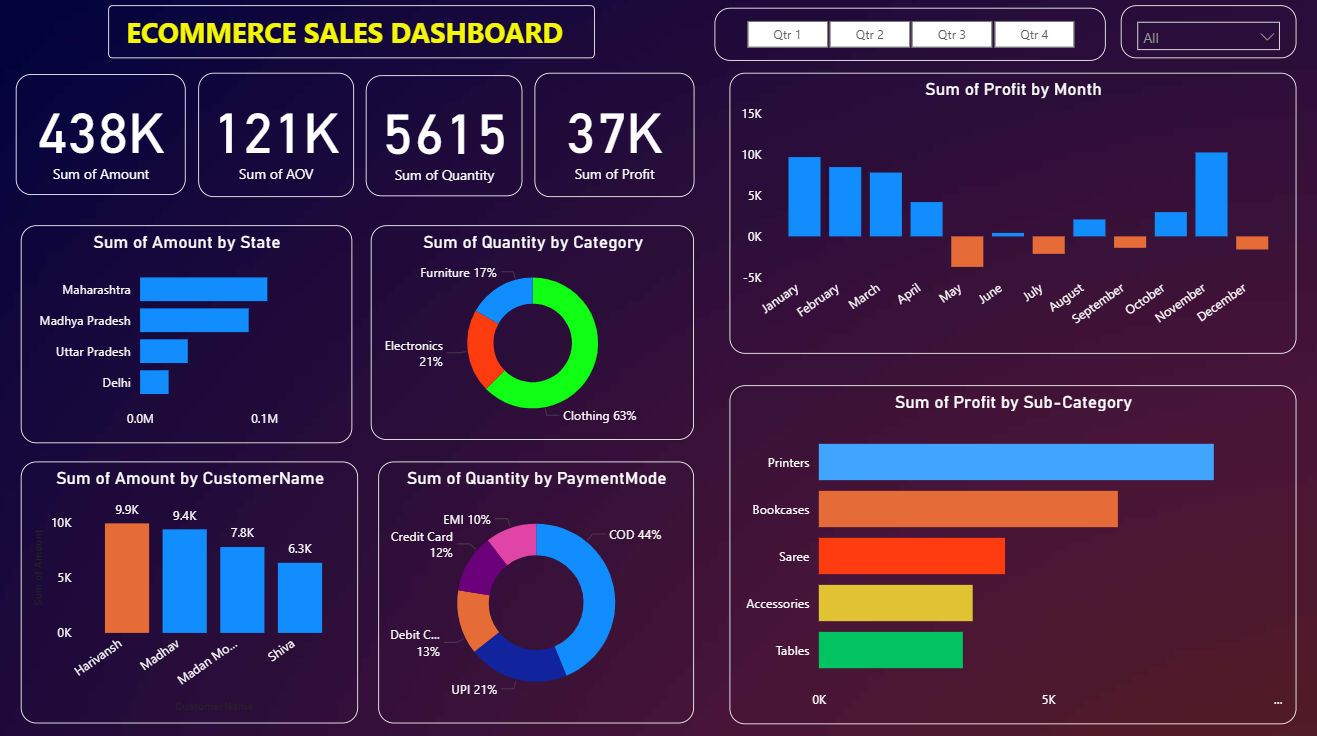

What the dashboard file says about the page in this screenshot:
{"tool":"powerbi","page":{"name":"Page 1","canvas":[1280,720],"ordinal":0},"visuals":[{"type":"columnChart","fields":{"Category":["Orders (1).Order Date.Variation.Date Hierarchy.Month"],"Y":["Sum(Details (1).Profit)"]},"box":[707.6,75.8,547,271.2],"z":0},{"type":"barChart","fields":{"Category":["Details (1).Sub-Category"],"Y":["Sum(Details (1).Profit)"]},"box":[707.6,377.3,547,327.3],"z":1000},{"type":"donutChart","fields":{"Category":["Details (1).Category"],"Y":["Sum(Details (1).Quantity)"]},"box":[360.6,222.7,312.1,207.6],"z":2000},{"type":"donutChart","fields":{"Category":["Details (1).PaymentMode"],"Y":["Sum(Details (1).Quantity)"]},"box":[368.2,451.5,304.5,253],"z":3000},{"type":"card","fields":{"Values":["Sum(Details (1).Amount)"]},"box":[18.6,77.1,164.3,117.1],"z":4000},{"type":"card","fields":{"Values":["Sum(Details (1).Profit)"]},"box":[518.6,75.7,154.3,120],"z":5000},{"type":"card","fields":{"Values":["Sum(Details (1).Quantity)"]},"box":[355.7,78.6,151.4,117.1],"z":6000},{"type":"card","fields":{"Values":["Sum(Details (1).AOV)"]},"box":[194.3,75.7,150,120],"z":7000},{"type":"barChart","fields":{"Category":["Orders (1).State"],"Y":["Sum(Details (1).Amount)"]},"box":[22.7,222.7,319.7,210.6],"z":8000},{"type":"columnChart","fields":{"Category":["Orders (1).CustomerName"],"Y":["Sum(Details (1).Amount)"]},"box":[22.7,451.5,325.8,253],"z":9000},{"type":"textbox","box":[107.6,10.6,469.7,51.5],"z":10000},{"type":"slicer","fields":{"Values":["Orders (1).Order Date.Variation.Date Hierarchy.Quarter"]},"box":[692.4,13.6,377.3,51.5],"z":11000},{"type":"slicer","fields":{"Values":["Orders (1).State"]},"box":[1084.8,10.6,169.7,51.5],"z":11001}]}

Visuals, with their boxes in screenshot pixels (x1, y1, x2, y2), scaled from the page's 1280x720 canvas onto the 1317x736 screenshot:
columnChart - Orders (1).Order Date.Variation.Date Hierarchy.Month x Sum(Details (1).Profit): BBox(728, 77, 1291, 355)
barChart - Details (1).Sub-Category x Sum(Details (1).Profit): BBox(728, 386, 1291, 720)
donutChart - Details (1).Category x Sum(Details (1).Quantity): BBox(371, 228, 692, 440)
donutChart - Details (1).PaymentMode x Sum(Details (1).Quantity): BBox(379, 462, 692, 720)
card - Sum(Details (1).Amount): BBox(19, 79, 188, 199)
card - Sum(Details (1).Profit): BBox(534, 77, 692, 200)
card - Sum(Details (1).Quantity): BBox(366, 80, 522, 200)
card - Sum(Details (1).AOV): BBox(200, 77, 354, 200)
barChart - Orders (1).State x Sum(Details (1).Amount): BBox(23, 228, 352, 443)
columnChart - Orders (1).CustomerName x Sum(Details (1).Amount): BBox(23, 462, 359, 720)
textbox: BBox(111, 11, 594, 63)
slicer - Orders (1).Order Date.Variation.Date Hierarchy.Quarter: BBox(712, 14, 1101, 67)
slicer - Orders (1).State: BBox(1116, 11, 1291, 63)
